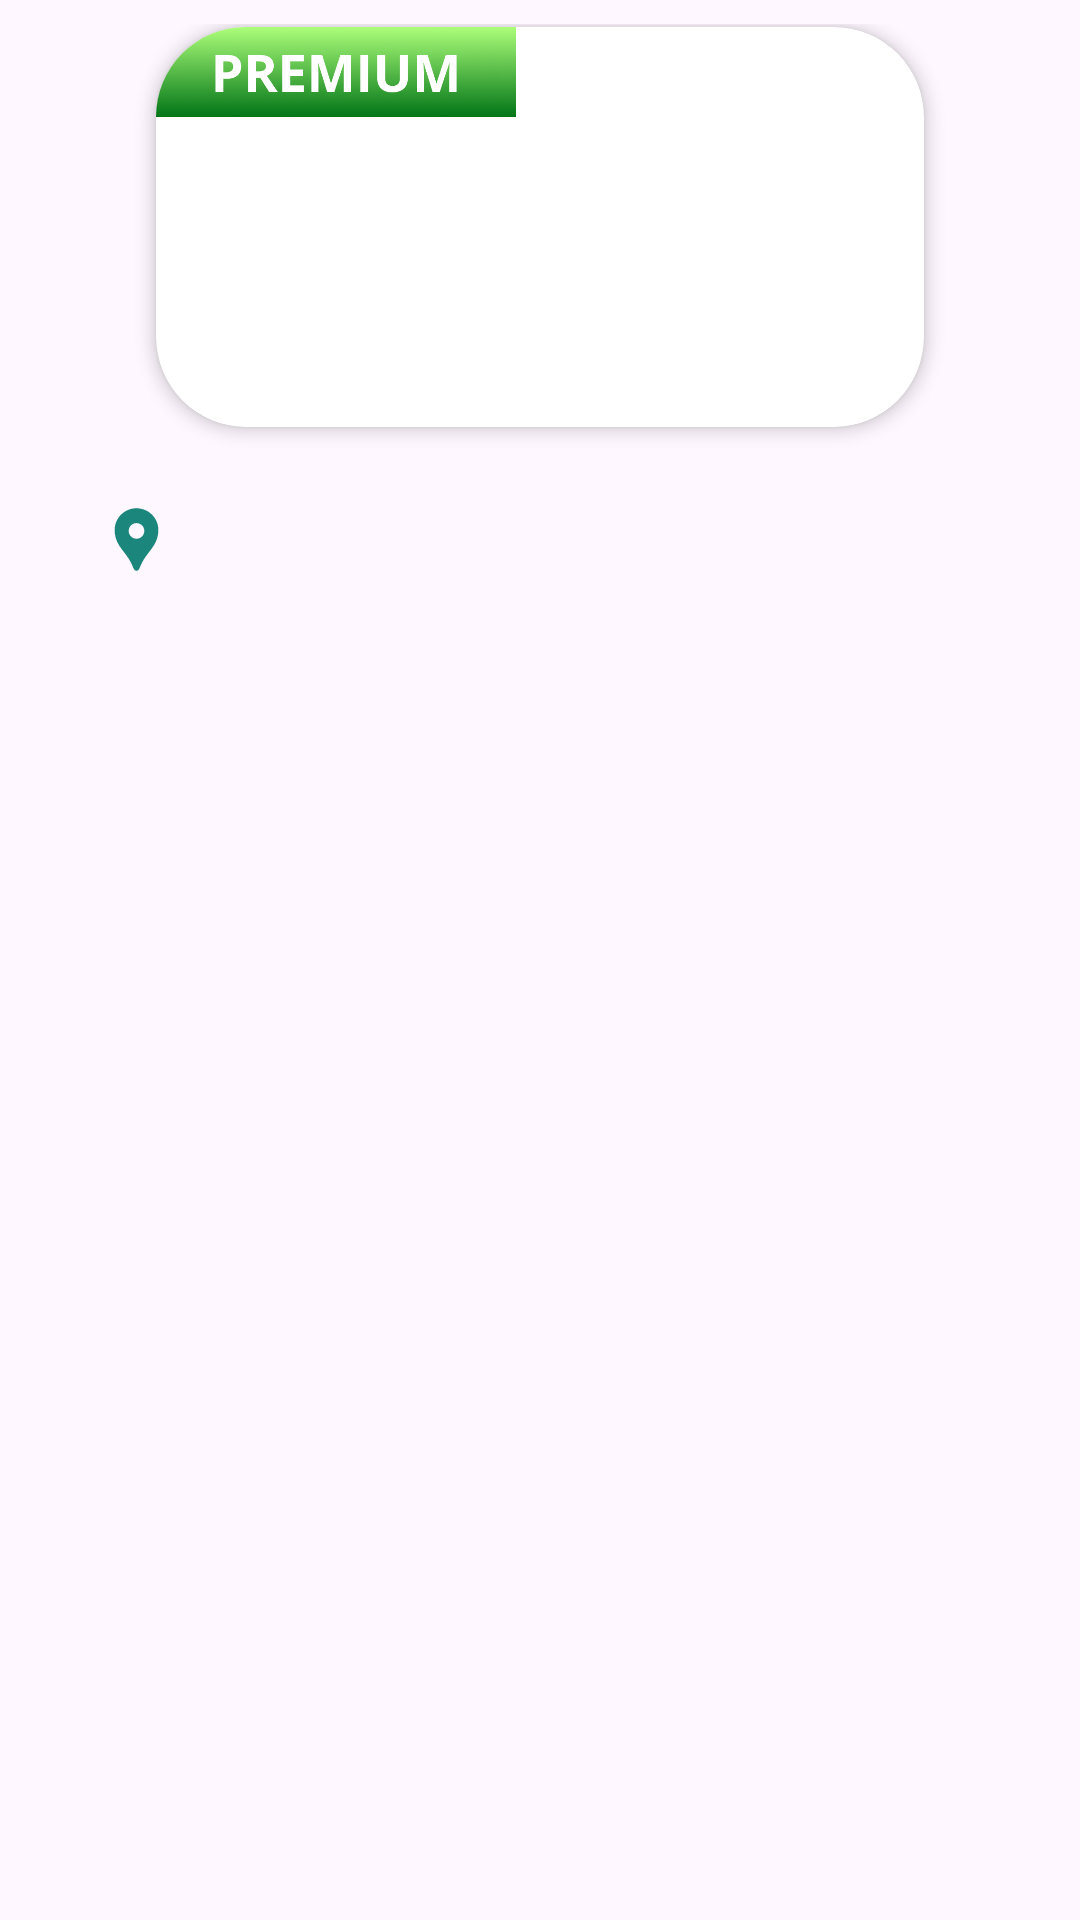

Named icons in this screenshot (1080 x 1920) and their bounding boxes, (x1, y1, x2, y2):
location verde: (114, 508, 159, 571)
